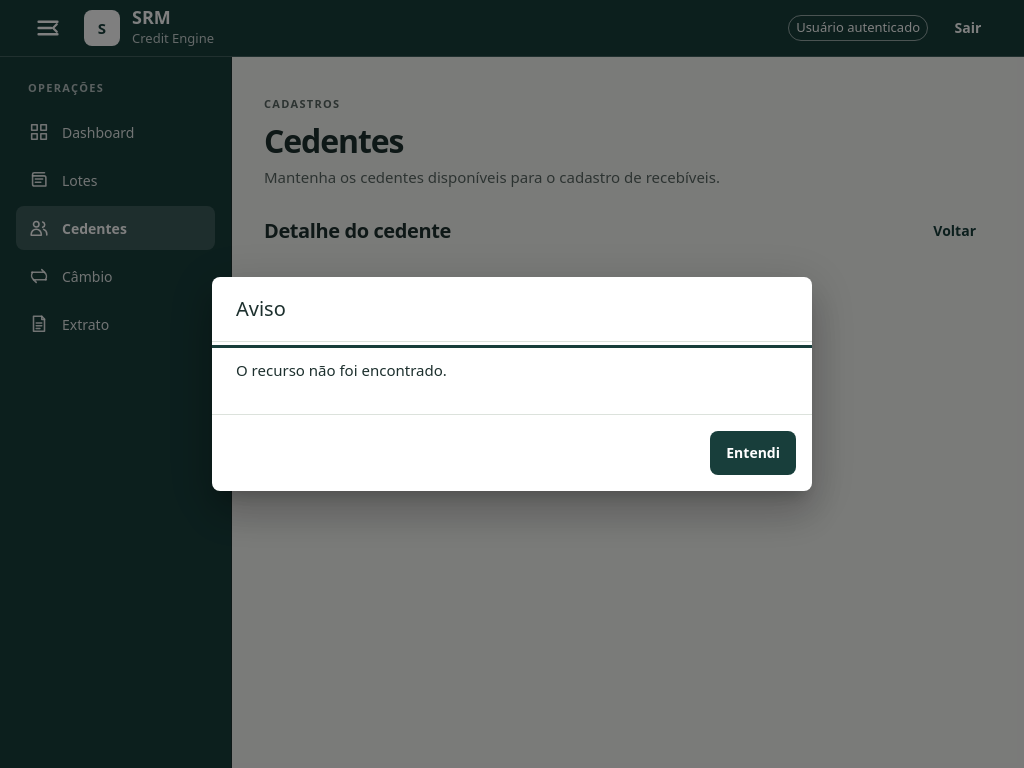
it: 404 no detalhe abre aviso sem simular cadastro; filtros permanecem ao voltar
The width and height of the screenshot is (1024, 768).
Expected: the dialog "Aviso" shows "O recurso não foi encontrado.", left=236, top=360, right=447, bottom=380
What coordinates should you click on to do the following:
click the button "Entendi"
I would click on:
 (753, 453)
Its box is left=710, top=431, right=796, bottom=475.
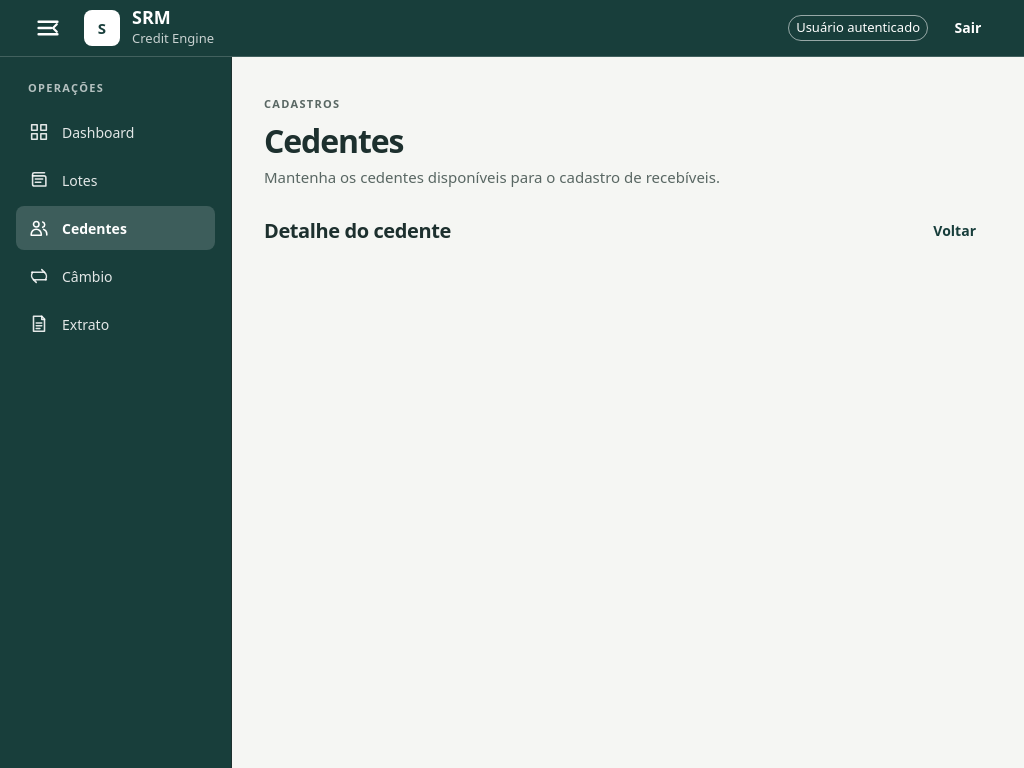
Result: the heading "Aviso" is gone
What coordinates should you click on to do the following:
click the button "Voltar"
I would click on:
 (955, 231)
Its box is left=917, top=209, right=992, bottom=253.
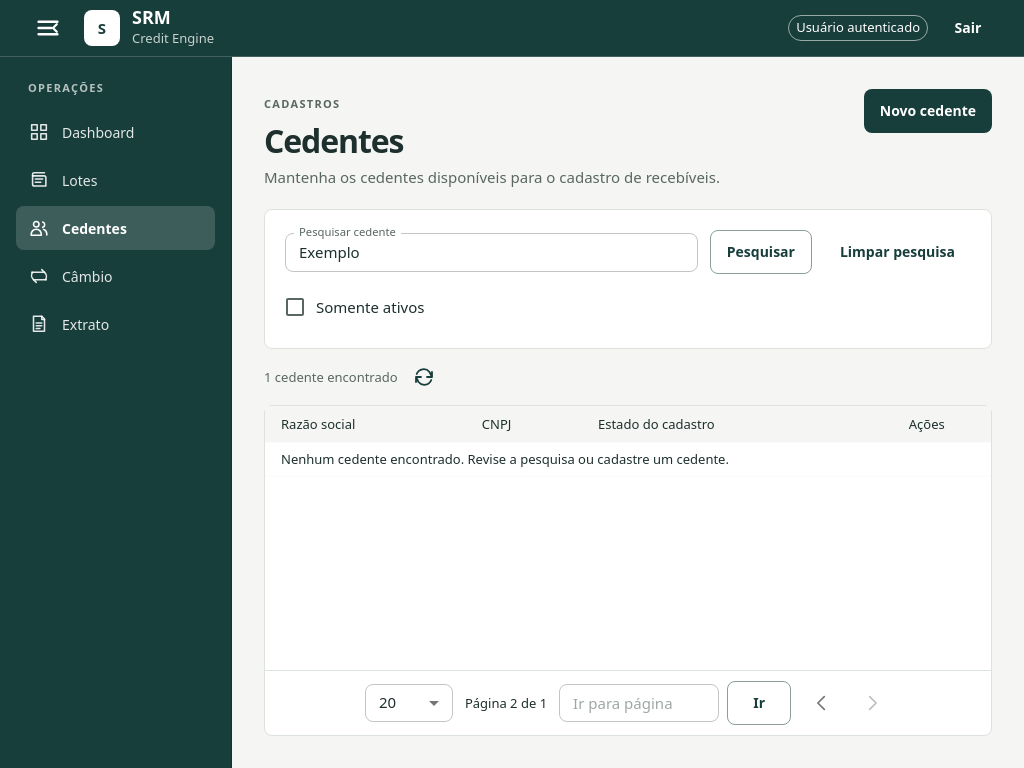
Result: the search field labelled "Pesquisar cedente" holds "Exemplo" at left=285, top=233, right=698, bottom=272
Result: the table shows "Nenhum cedente encontrado. Revise a pesquisa ou cadastre um cedente." at left=281, top=450, right=729, bottom=468
